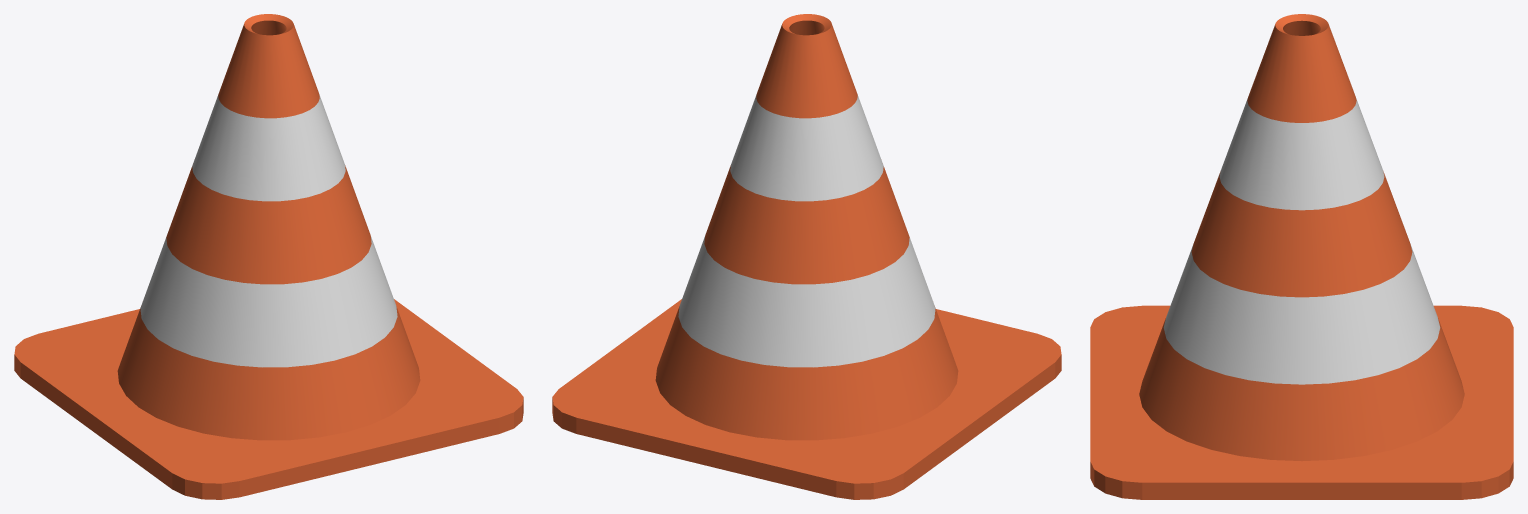
File: trafificcone.fbx
The picture shows the model from 3 angles, left to right: view 1: azimuth 30°, elevation 25°; view 2: azimuth 150°, elevation 25°; view 3: azimuth 270°, elevation 25°; orthographic projection. The views are drawn at different scales.
Visible parts, largest first — view 1: Cylinder; view 2: Cylinder; view 3: Cylinder.
Boxes of the visible parts, box(x1,y1,x2,y2) form: Cylinder: box(14, 14, 523, 499); Cylinder: box(552, 14, 1061, 499); Cylinder: box(1090, 14, 1513, 499).
Size of the model in its own units: 269 by 274 by 272.
